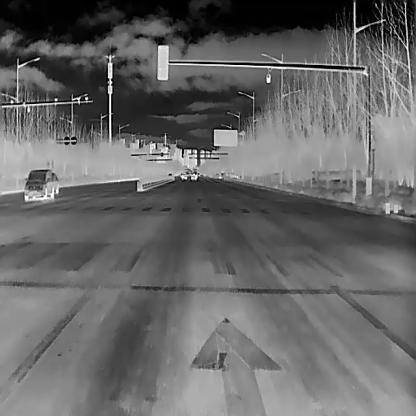car: (24, 167, 54, 201), (50, 172, 59, 193), (189, 171, 197, 180), (180, 171, 187, 179)
crosswalk: (59, 193, 355, 222)
